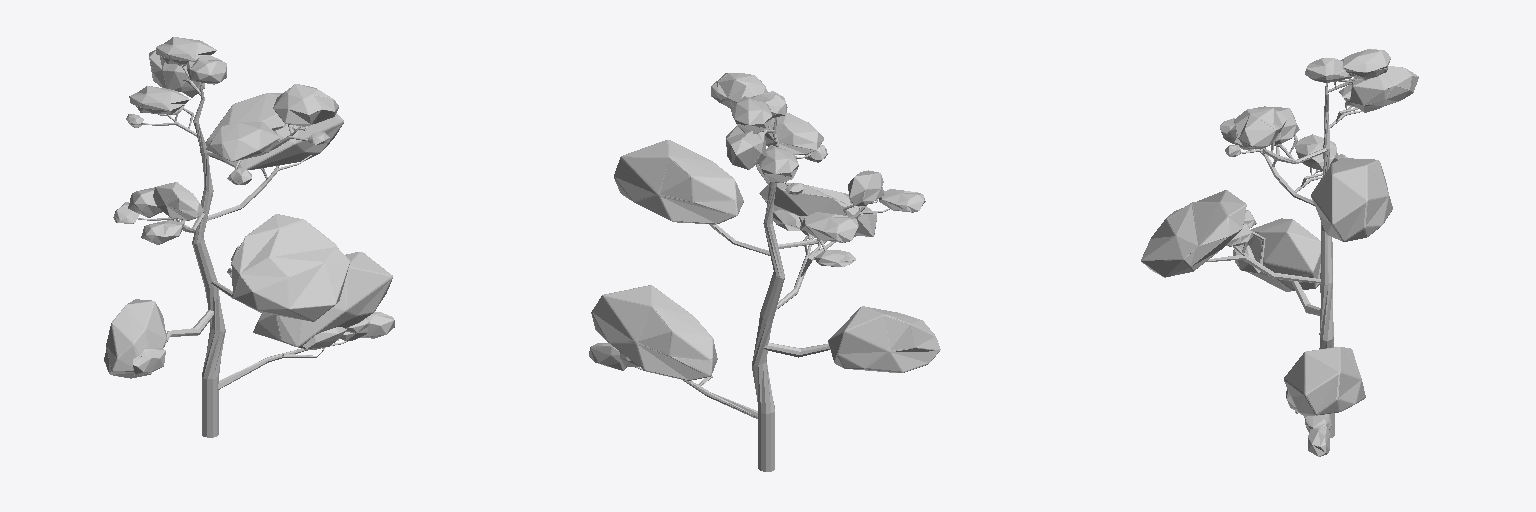
The model's file is tree1.obj.
3 views of the same model, side by side, from view 1: azimuth 30°, elevation 25°; view 2: azimuth 150°, elevation 25°; view 3: azimuth 270°, elevation 25° (orthographic).
Parts seen in each view (by area): view 1: BRANCH1; view 2: BRANCH1; view 3: BRANCH1.
Boxes of the visible parts, box(x1,y1,x2,y2) form: BRANCH1: box(104, 37, 394, 437); BRANCH1: box(589, 73, 940, 471); BRANCH1: box(1141, 49, 1418, 456).
Bounding box in the file's own units: 8.65 × 9.93 × 6.59.